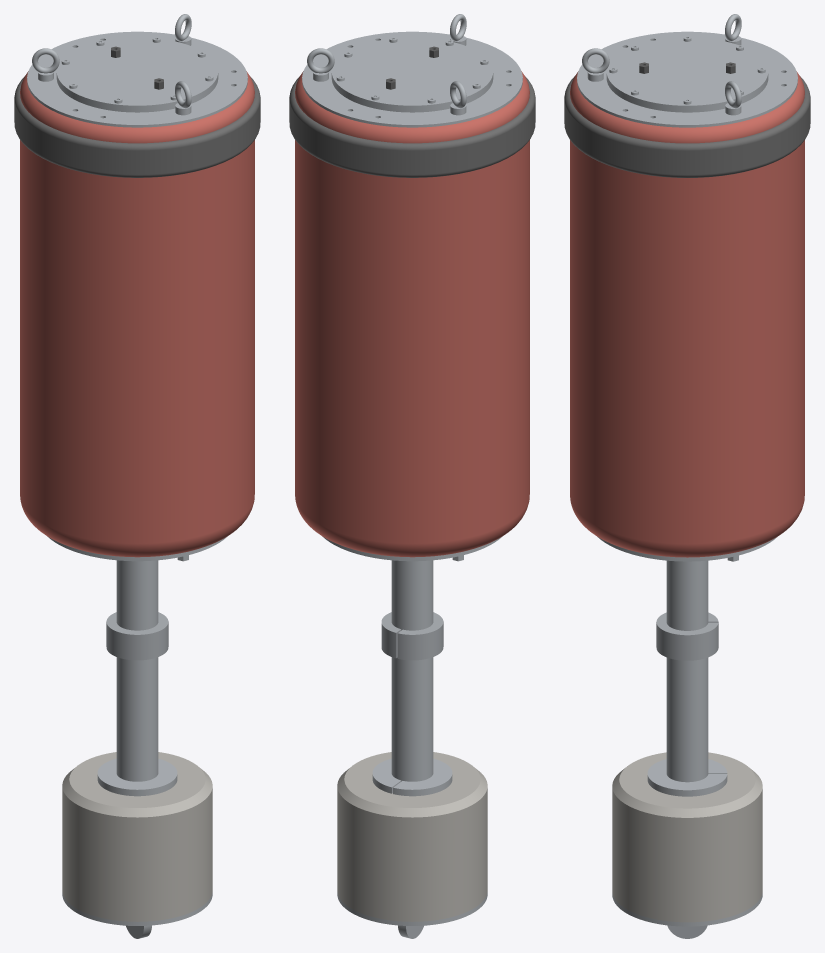
Rendered from step_03.glb.
3 views of the same model, side by side, from view 1: azimuth 30°, elevation 25°; view 2: azimuth 150°, elevation 25°; view 3: azimuth 270°, elevation 25° (orthographic).
Visible parts, largest first — view 1: part__float hull, part__ballast ring, part__fender ring, part__tail tube, part__hatch lid, part__deck plate, part__zinc anode, part__ballast collar, part__keel plate, part__equipment canister, part__lifting eye nut 2; view 2: part__float hull, part__ballast ring, part__fender ring, part__tail tube, part__hatch lid, part__deck plate, part__zinc anode, part__ballast collar, part__keel plate, part__equipment canister, part__lifting eye nut 1; view 3: part__float hull, part__ballast ring, part__fender ring, part__tail tube, part__hatch lid, part__deck plate, part__zinc anode, part__ballast collar, part__keel plate, part__equipment canister, part__lifting eye nut 3.
Boxes of the visible parts, x1,y1,x2,y2 form: part__float hull: (20, 71, 254, 557); part__ballast ring: (62, 752, 212, 921); part__fender ring: (14, 76, 260, 177); part__tail tube: (62, 560, 212, 925); part__hatch lid: (56, 37, 218, 108); part__deck plate: (27, 31, 247, 127); part__zinc anode: (106, 612, 168, 660); part__ballast collar: (97, 758, 177, 796); part__keel plate: (47, 536, 227, 561); part__equipment canister: (56, 76, 218, 112); part__lifting eye nut 2: (32, 48, 59, 81); part__float hull: (295, 71, 529, 557); part__ballast ring: (337, 752, 487, 921); part__fender ring: (289, 76, 535, 177); part__tail tube: (337, 560, 487, 925); part__hatch lid: (331, 37, 493, 108); part__deck plate: (302, 31, 522, 127); part__zinc anode: (381, 612, 443, 660); part__ballast collar: (372, 758, 452, 796); part__keel plate: (322, 536, 502, 561); part__equipment canister: (331, 76, 493, 112); part__lifting eye nut 1: (307, 48, 334, 81); part__float hull: (570, 71, 804, 557); part__ballast ring: (612, 752, 762, 922); part__fender ring: (564, 76, 810, 177); part__tail tube: (612, 560, 762, 926); part__hatch lid: (606, 37, 768, 109); part__deck plate: (577, 31, 797, 127); part__zinc anode: (656, 612, 718, 660); part__ballast collar: (647, 759, 727, 796); part__keel plate: (597, 536, 777, 561); part__equipment canister: (606, 77, 768, 112); part__lifting eye nut 3: (582, 48, 609, 81).
Size of the model in its own units: 524 by 2085 by 524.
